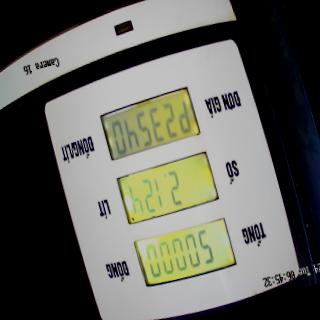screen: (95, 80, 240, 295)
